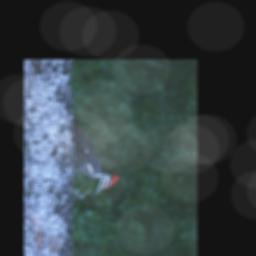Woodpecker: (70, 113, 119, 200)
